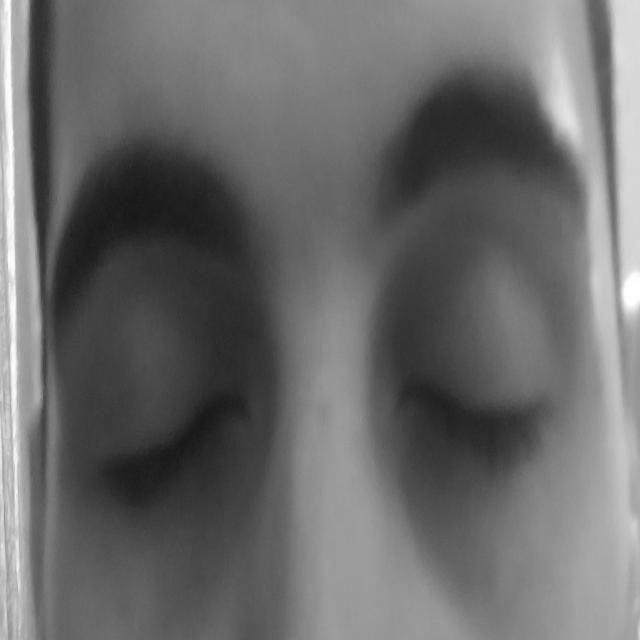real: (60, 218, 568, 562)
